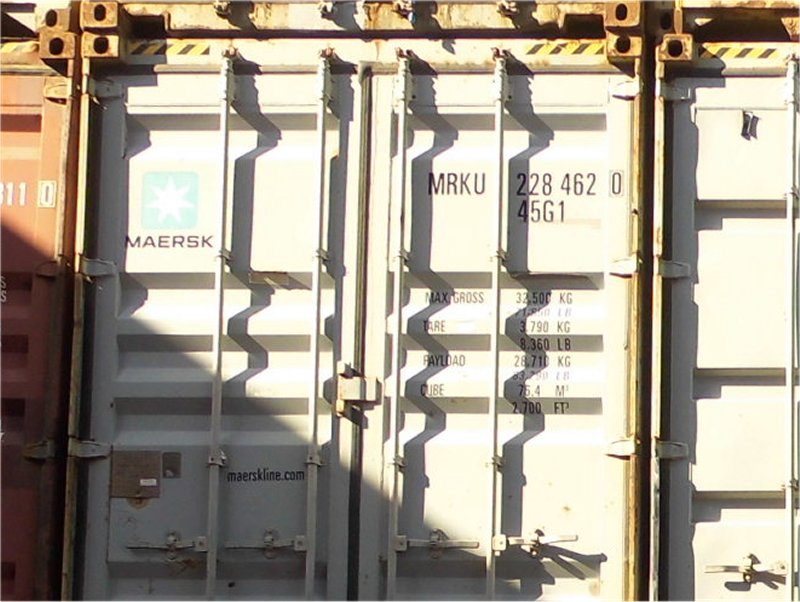container_door: (76, 24, 637, 601)
